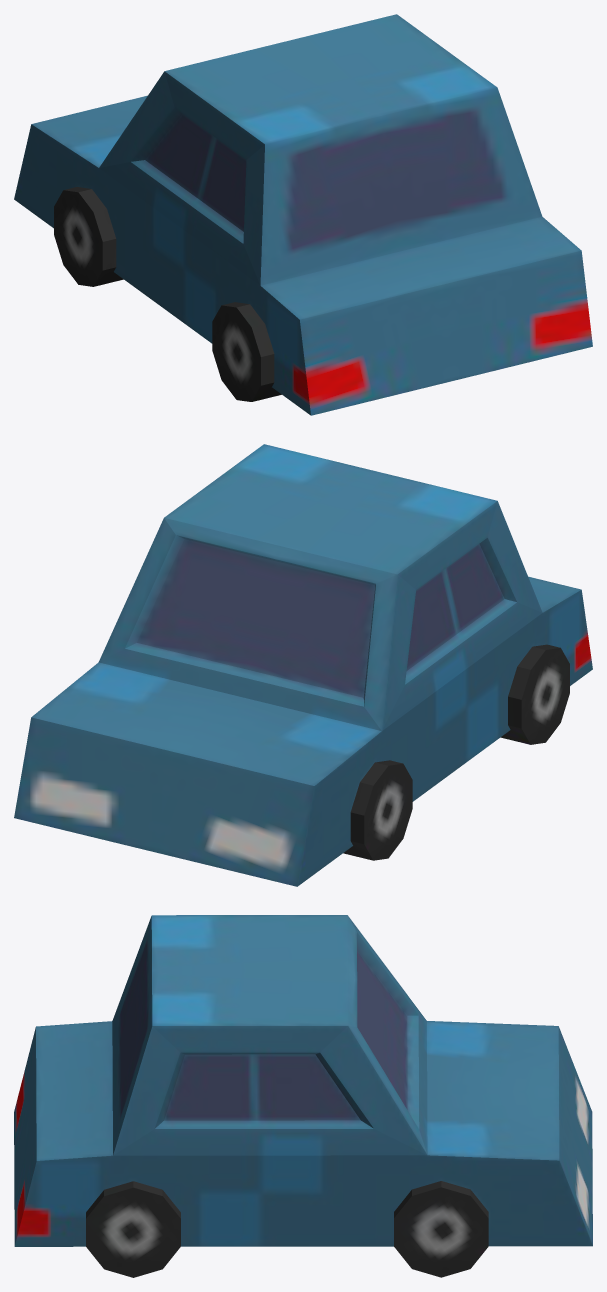
Rendered from car.fbx.
3 renders of one model, top to bottom at view 1: azimuth 30°, elevation 25°; view 2: azimuth 150°, elevation 25°; view 3: azimuth 270°, elevation 25°, orthographic. The views are drawn at different scales.
Visible parts, largest first — view 1: xe_oto_con; view 2: xe_oto_con; view 3: xe_oto_con.
Boxes of the visible parts, x1=… form: xe_oto_con: x1=14, y1=14, x2=592, y2=415; xe_oto_con: x1=14, y1=444, x2=592, y2=886; xe_oto_con: x1=14, y1=915, x2=592, y2=1277.
Bounding box in the file's own units: 233 × 171 × 385.
